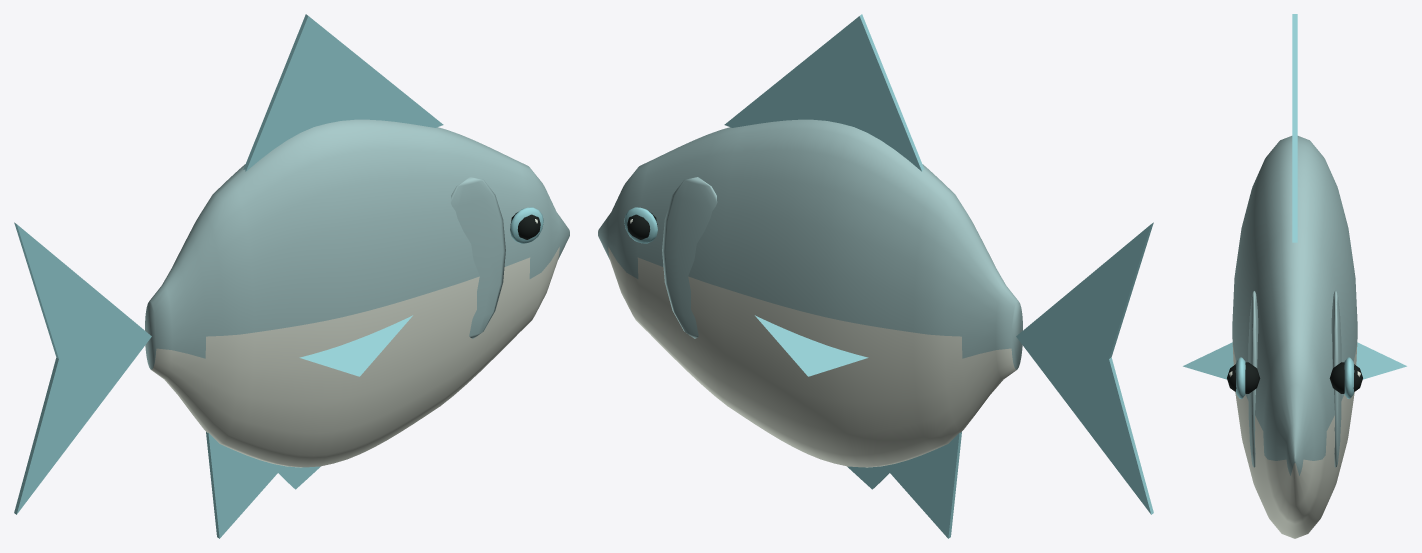
The model's file is moon.glb.
3 renders of one model, left to right at view 1: azimuth 30°, elevation 25°; view 2: azimuth 150°, elevation 25°; view 3: azimuth 270°, elevation 25°, orthographic. The views are drawn at different scales.
Visible parts, largest first — view 1: moon_Body, Dorsal.005, TailFinLower.004, TailFin.005, Gill_plate.010, Anal_fin.005, Pectoral.010; view 2: moon_Body, Dorsal.005, TailFinLower.004, TailFin.005, Gill_plate.011, Anal_fin.005, Pectoral.011; view 3: moon_Body, Dorsal.005, Gill_plate.010, Gill_plate.011, Pectoral.010, Pectoral.011, Eye.010, Eye.011, Iris_rim.010, Iris_rim.011.
Part boxes in pixels (box(x1,y1,x2,y2)): moon_Body: box(145, 119, 569, 467); Dorsal.005: box(243, 14, 443, 171); TailFinLower.004: box(14, 336, 151, 514); TailFin.005: box(14, 222, 151, 358); Gill_plate.010: box(450, 177, 505, 338); Anal_fin.005: box(206, 432, 283, 538); Pectoral.010: box(299, 315, 412, 376); moon_Body: box(598, 119, 1022, 467); Dorsal.005: box(724, 14, 924, 171); TailFinLower.004: box(1016, 336, 1153, 514); TailFin.005: box(1016, 222, 1153, 358); Gill_plate.011: box(662, 177, 717, 338); Anal_fin.005: box(885, 432, 961, 538); Pectoral.011: box(755, 315, 868, 376); moon_Body: box(1232, 136, 1357, 538); Dorsal.005: box(1292, 20, 1297, 242); Gill_plate.010: box(1248, 291, 1258, 467); Gill_plate.011: box(1331, 291, 1341, 467); Pectoral.010: box(1183, 342, 1233, 379); Pectoral.011: box(1356, 342, 1406, 379); Eye.010: box(1227, 362, 1260, 393); Eye.011: box(1329, 362, 1362, 393); Iris_rim.010: box(1235, 357, 1245, 398); Iris_rim.011: box(1344, 357, 1354, 398).
Size of the model in its own units: 1.96 by 1.7 by 0.646.
